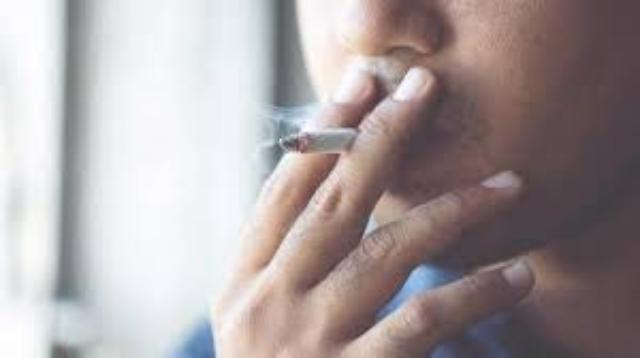Smoking: (278, 129, 404, 155)
